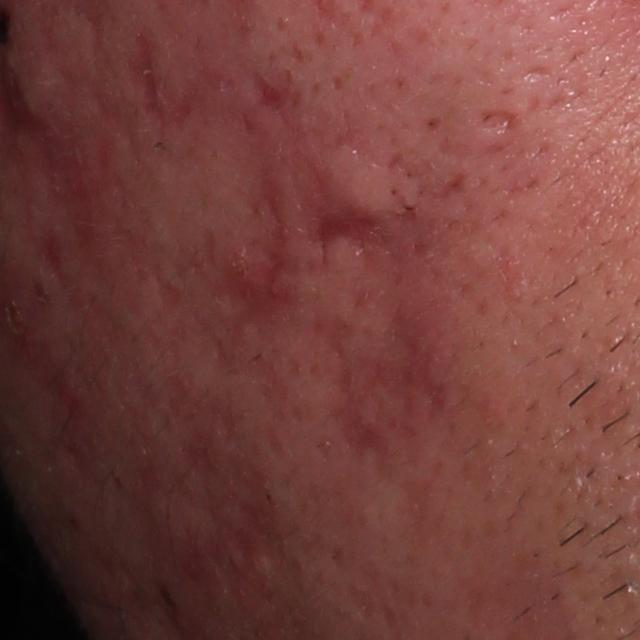atrophic_scar: (128, 30, 295, 333), (215, 464, 279, 598), (302, 197, 430, 263), (477, 101, 518, 134)
hypertrophic_scar: (323, 142, 423, 221)
